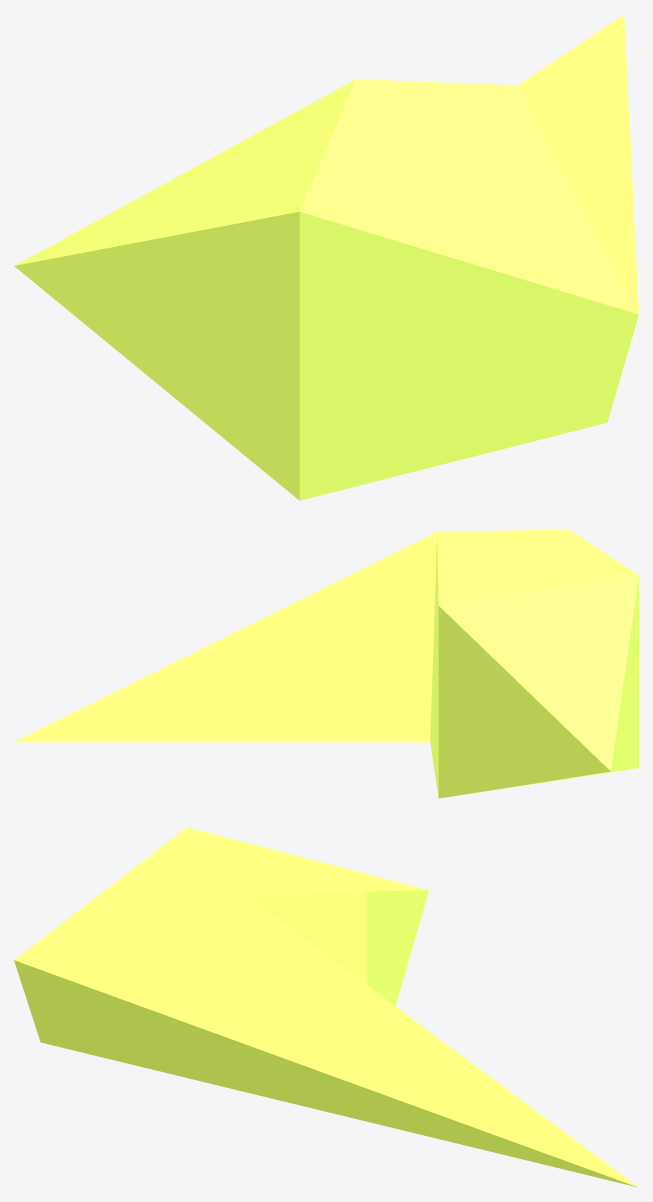
The model's file is H1_YPl_Blob5.gltf.
The picture shows the model from 3 angles, top to bottom: view 1: azimuth 30°, elevation 25°; view 2: azimuth 150°, elevation 25°; view 3: azimuth 270°, elevation 25°; orthographic projection. The views are drawn at different scales.
Parts seen in each view (by area): view 1: H1_YPl_Blob5; view 2: H1_YPl_Blob5; view 3: H1_YPl_Blob5.
Boxes of the visible parts, box(x1,y1,x2,y2) form: H1_YPl_Blob5: box(14, 14, 638, 500); H1_YPl_Blob5: box(14, 529, 638, 798); H1_YPl_Blob5: box(14, 827, 638, 1187).
Bounding box in the file's own units: 0.8966 × 0.3659 × 0.8733.
